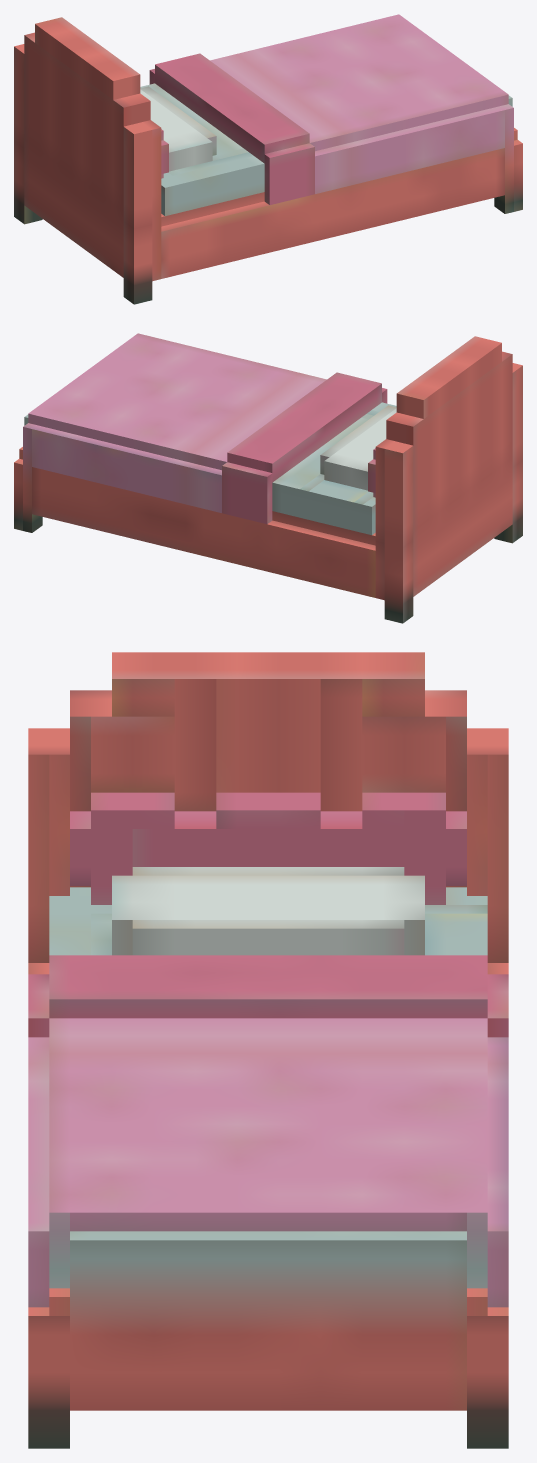
File: BedPink_00.obj
3 views of the same model, one above another, from view 1: azimuth 30°, elevation 25°; view 2: azimuth 150°, elevation 25°; view 3: azimuth 270°, elevation 25° (orthographic). The views are drawn at different scales.
Parts seen in each view (by area): view 1: BedPink_00; view 2: BedPink_00; view 3: BedPink_00.
Boxes of the visible parts, x1=… form: BedPink_00: x1=14, y1=14, x2=522, y2=304; BedPink_00: x1=14, y1=333, x2=522, y2=623; BedPink_00: x1=28, y1=652, x2=508, y2=1448.
Size of the model in its own units: 2.15 by 1.1 by 1.15.
